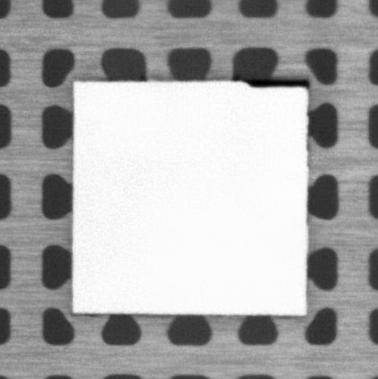DIE_BROKEN: (241, 75, 311, 89)
